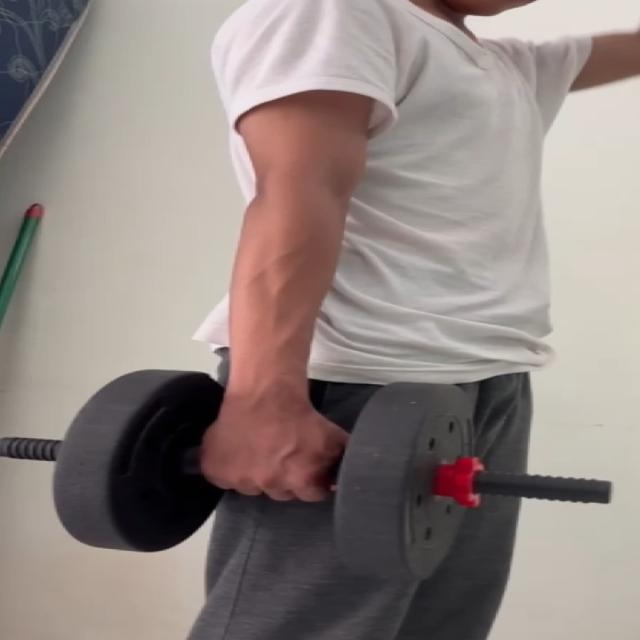hammer: (46, 368, 486, 584)
